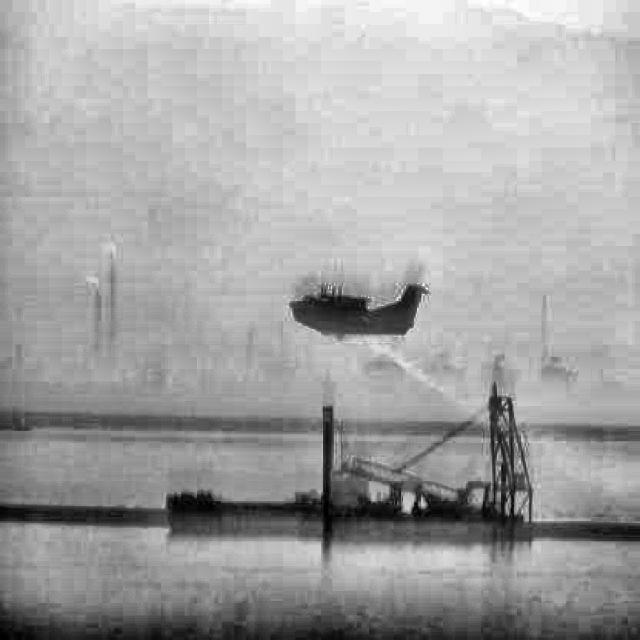US2: (289, 283, 431, 335)
